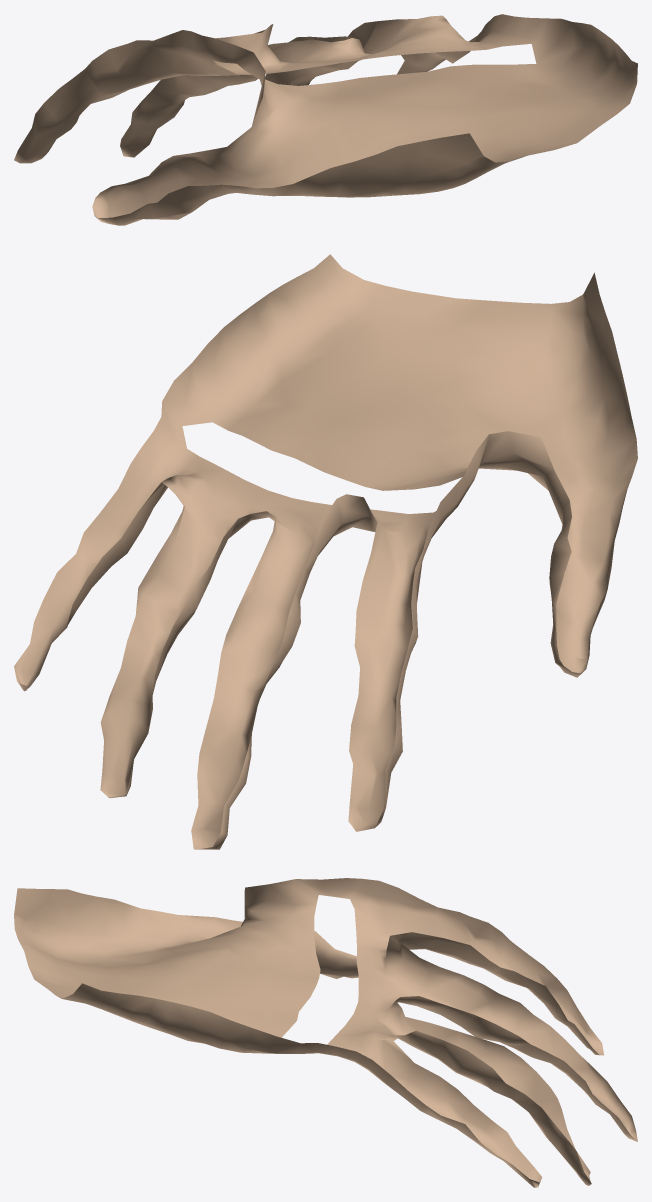
The picture shows the model from 3 angles, top to bottom: view 1: azimuth 30°, elevation 25°; view 2: azimuth 150°, elevation 25°; view 3: azimuth 270°, elevation 25°; orthographic projection. The views are drawn at different scales.
Visible parts, largest first — view 1: 右侧掌腱膜; view 2: 右侧掌腱膜; view 3: 右侧掌腱膜.
Part boxes in pixels (x1,y1,x2,y2): 右侧掌腱膜: [14, 14, 637, 225]; 右侧掌腱膜: [14, 254, 637, 849]; 右侧掌腱膜: [14, 878, 637, 1187].
Size of the model in its own units: 0.1611 by 0.1004 by 0.2299.
